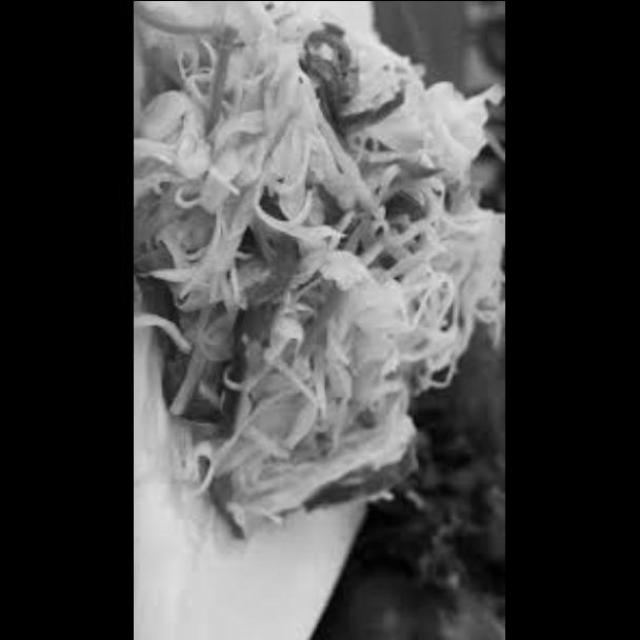ca rot: (228, 207, 304, 404), (210, 1, 247, 130), (137, 9, 221, 39)
cabbage: (136, 21, 357, 202), (291, 252, 465, 470), (176, 406, 312, 543), (366, 50, 493, 190), (174, 189, 262, 306), (440, 180, 507, 325)
hot pepper: (295, 19, 408, 152), (139, 266, 196, 391), (315, 457, 424, 507), (390, 192, 433, 228)
